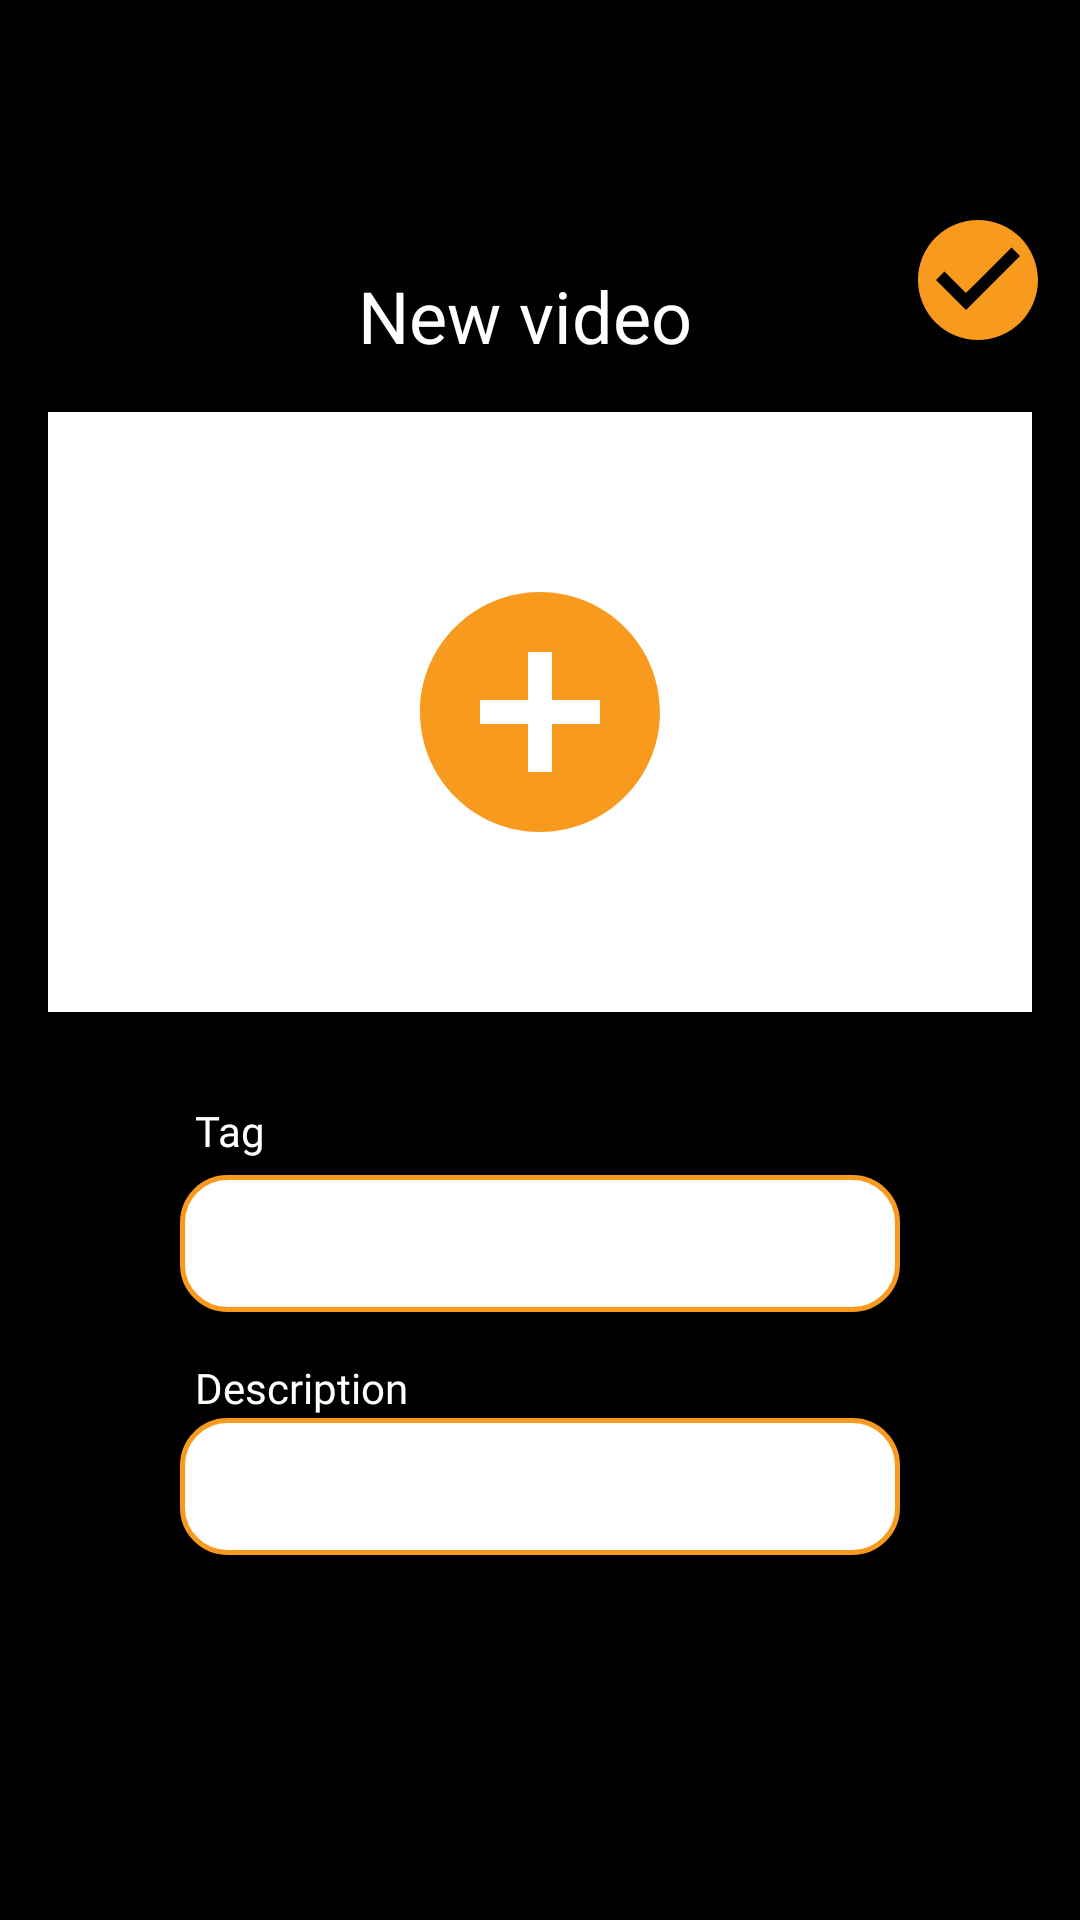

Named icons in this screenshot (1080 x 1920) and their centers, (x,y):
add circle: (540,712)
check circle: (978,280)
